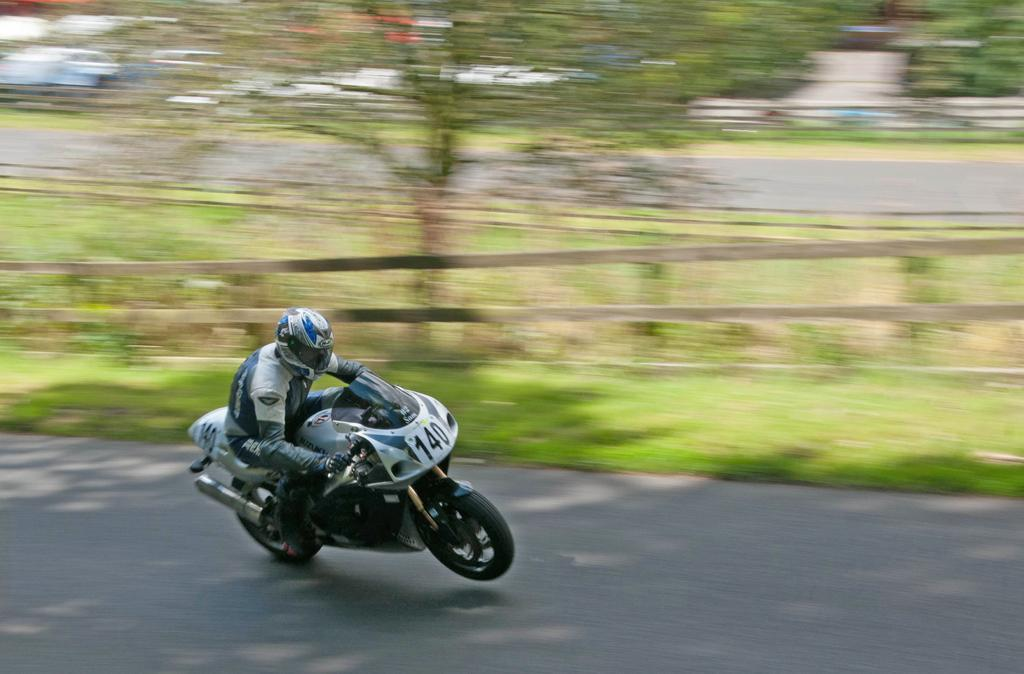helmet: (274, 306, 336, 382)
